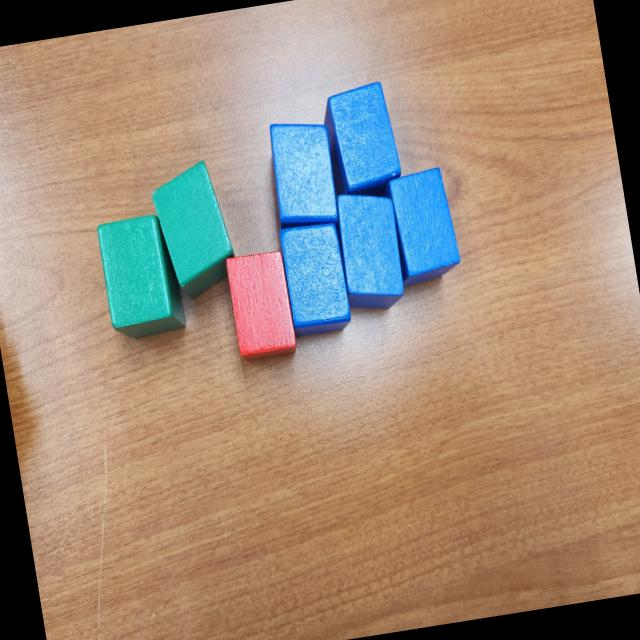blue: (314, 77, 407, 202), (328, 186, 411, 316), (385, 166, 465, 290), (262, 116, 344, 234), (276, 219, 355, 339)
green: (145, 156, 240, 305), (93, 212, 188, 344)
red: (220, 244, 302, 364)
